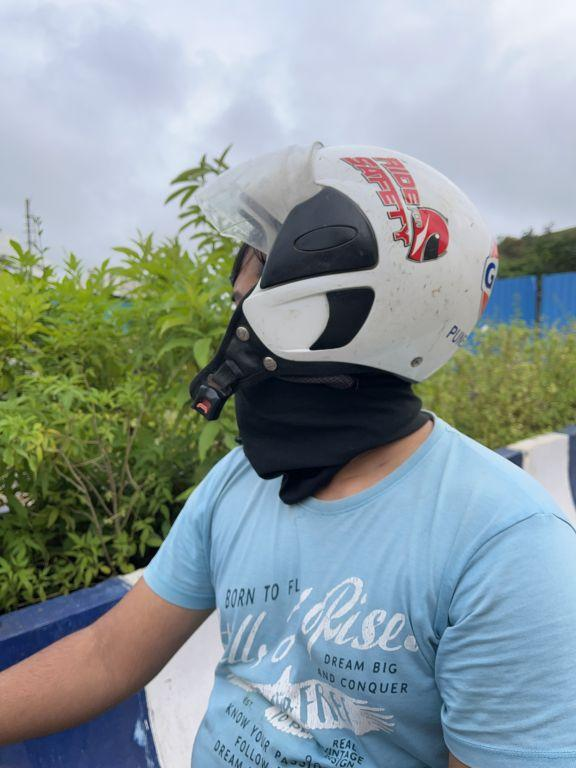helmet: (185, 130, 508, 457)
